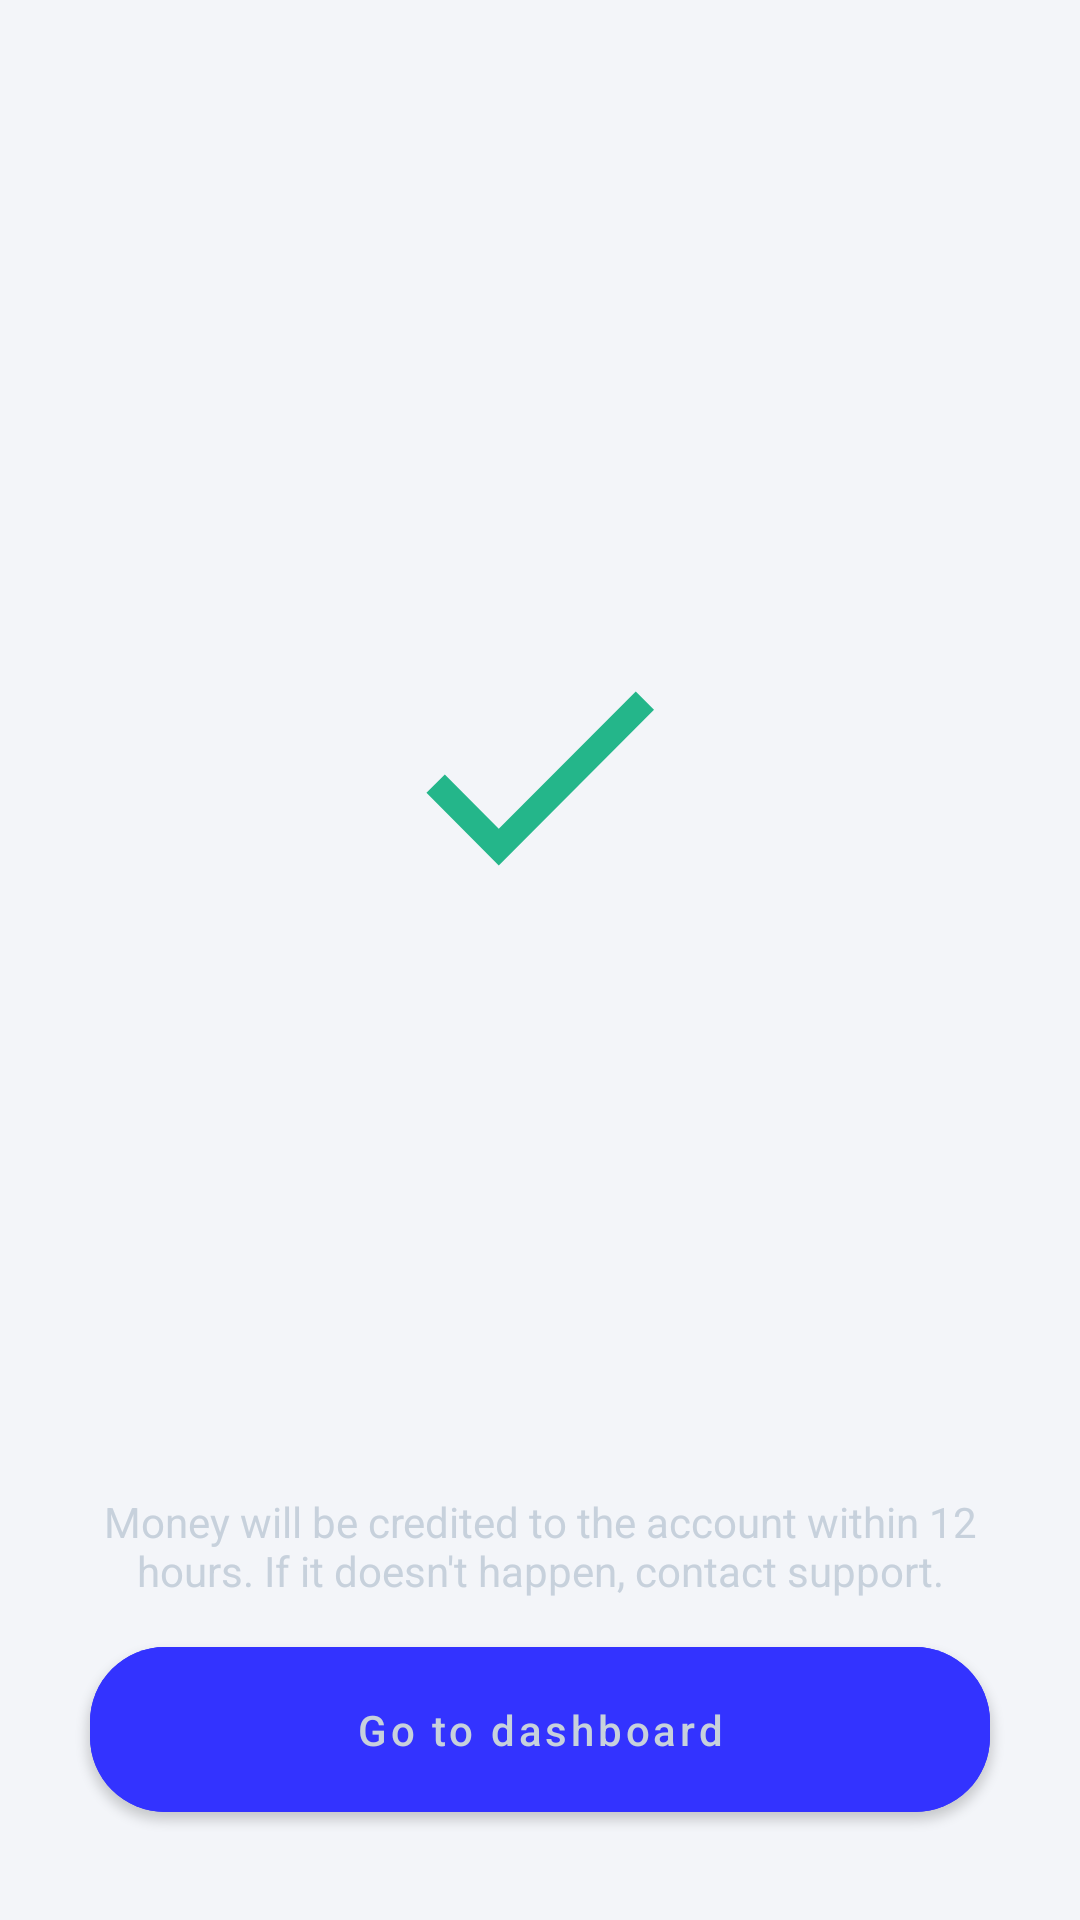

Icons on this 1080x1920 Android screen, each with the point to tap as [x,y]:
success: [540,778]
